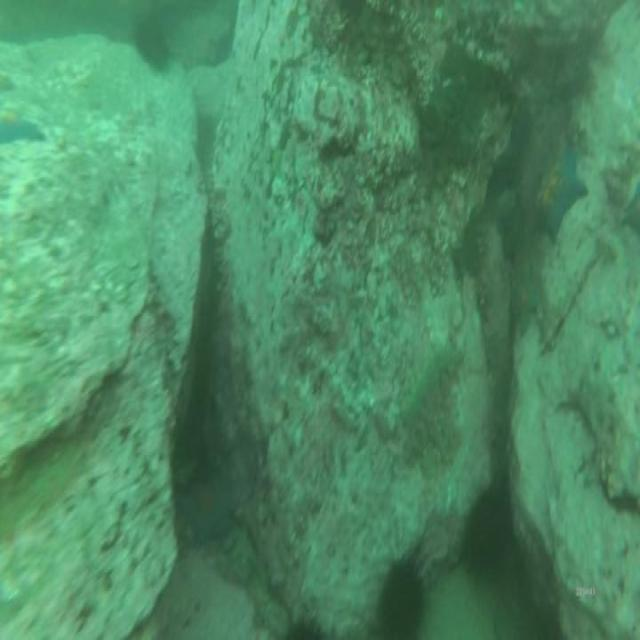echinus: (466, 486, 511, 574), (379, 561, 425, 637), (134, 22, 169, 70)
holothurian: (402, 345, 460, 425)
starfish: (533, 154, 586, 235), (175, 485, 234, 541), (511, 270, 538, 337), (0, 117, 46, 145)
